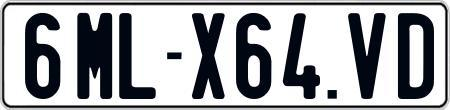4: (282, 11, 321, 102)
6: (22, 10, 61, 100), (236, 13, 275, 102)
D: (396, 12, 435, 98)
L: (117, 11, 160, 97)
M: (74, 13, 114, 104)
V: (347, 11, 385, 101)
X: (190, 11, 226, 103)
